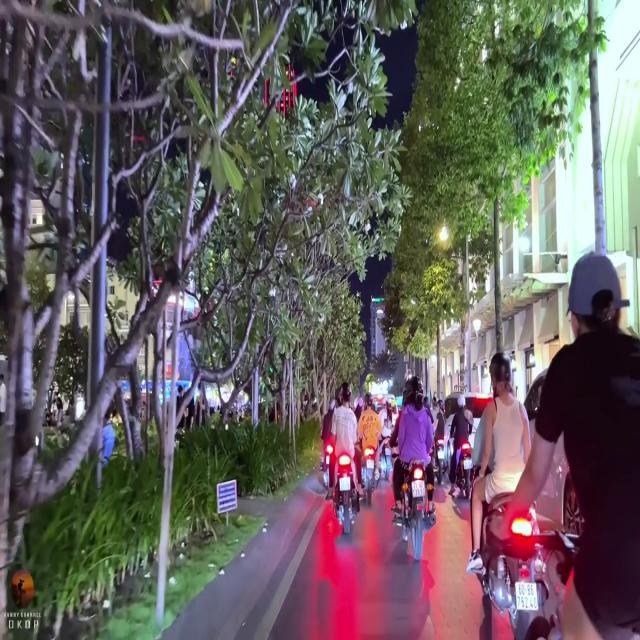bien_trang: (517, 582, 540, 612), (412, 482, 424, 505)
